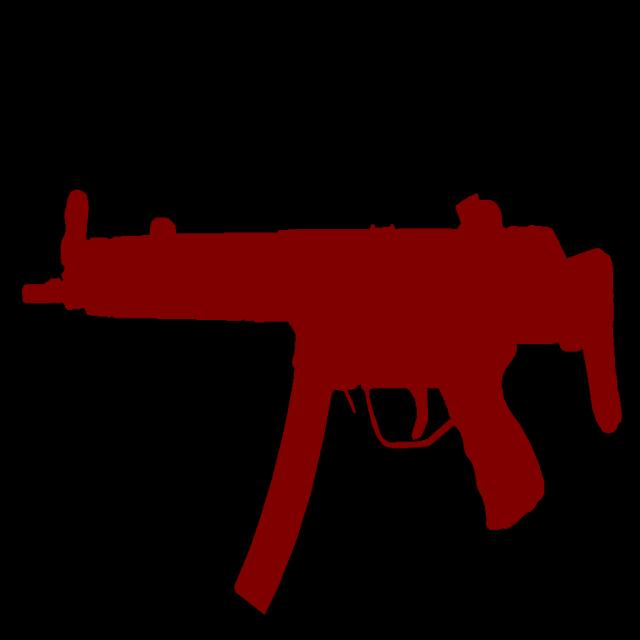firearm: (24, 188, 622, 617)
